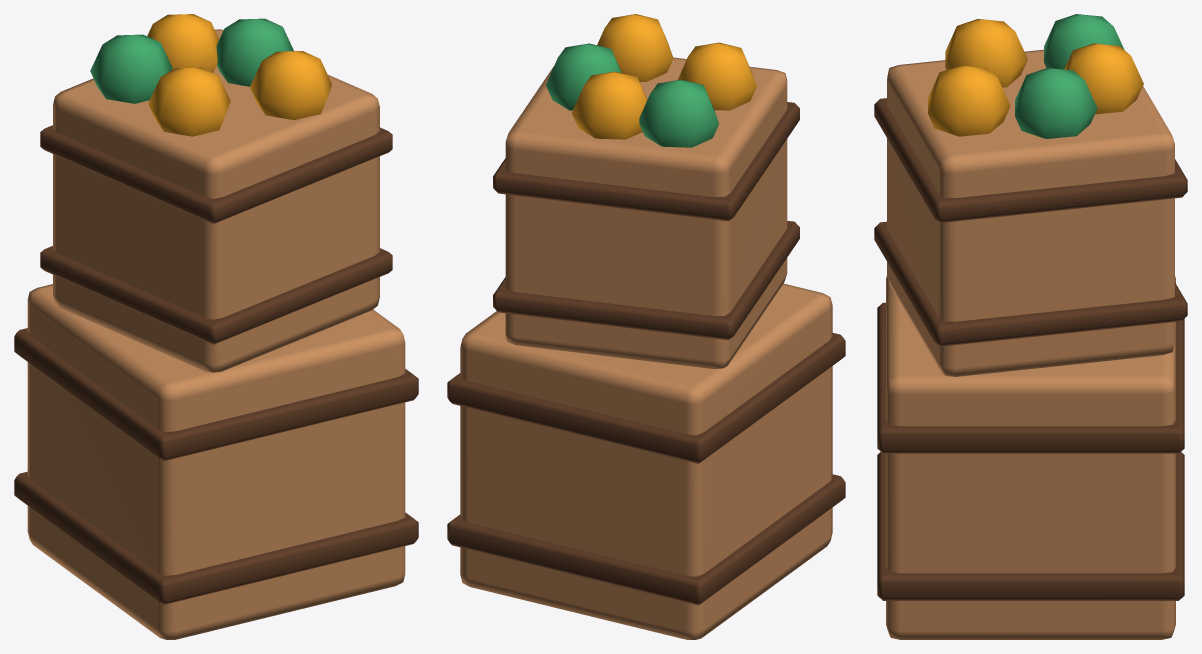
Rendered from crate.glb.
3 renders of one model, left to right at view 1: azimuth 30°, elevation 25°; view 2: azimuth 150°, elevation 25°; view 3: azimuth 270°, elevation 25°, orthographic. The views are drawn at different scales.
Parts seen in each view (by area): view 1: Crate.001; view 2: Crate.001; view 3: Crate.001.
Part boxes in pixels (x1=…): Crate.001: x1=14, y1=14, x2=418, y2=639; Crate.001: x1=447, y1=14, x2=845, y2=639; Crate.001: x1=874, y1=14, x2=1187, y2=639.
Bounding box in the file's own units: 0.5407 × 1.02 × 0.5407.
